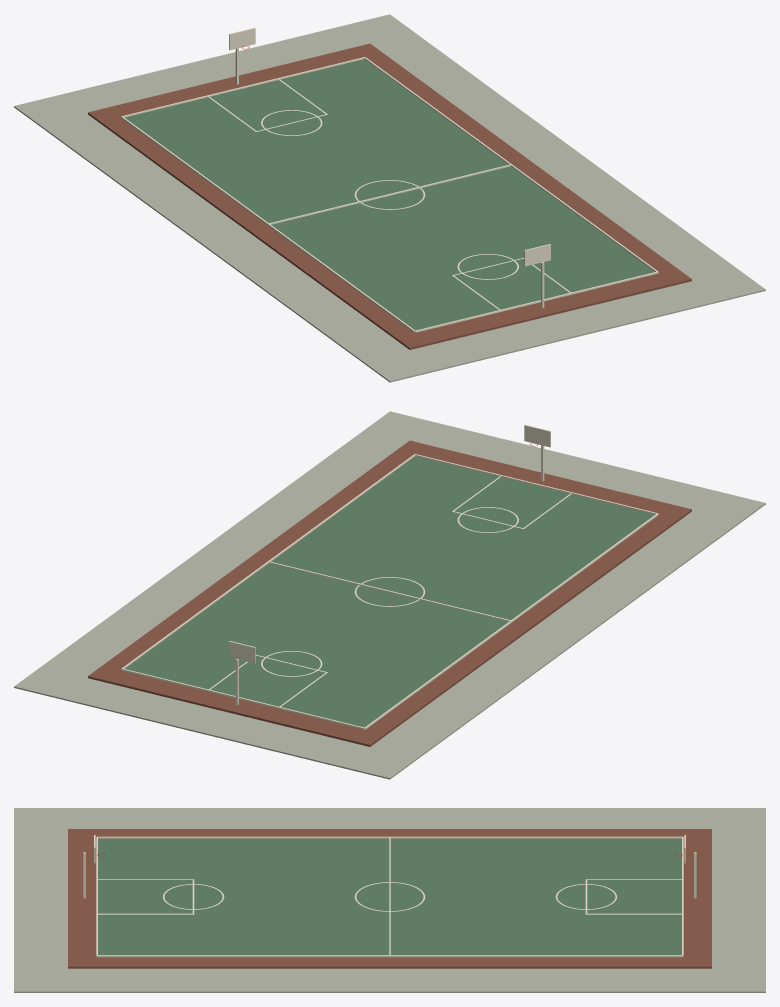
The model's file is basket_B_west_top.glb.
3 views of the same model, one above another, from view 1: azimuth 30°, elevation 25°; view 2: azimuth 150°, elevation 25°; view 3: azimuth 270°, elevation 25° (orthographic).
Parts seen in each view (by area): view 1: Court_1_CourtInfield, PavedSurround, Court_1_CourtRed, Court_1_CourtLines, Court_1_Backboard; view 2: Court_1_CourtInfield, PavedSurround, Court_1_CourtRed, Court_1_CourtLines, Court_1_Backboard; view 3: Court_1_CourtInfield, PavedSurround, Court_1_CourtRed, Court_1_CourtLines.
Part boxes in pixels (<box>): Court_1_CourtInfield: <box>125,59,654,330</box>; PavedSurround: <box>14,14,765,382</box>; Court_1_CourtRed: <box>88,43,691,349</box>; Court_1_CourtLines: <box>121,57,658,332</box>; Court_1_Backboard: <box>229,27,550,266</box>; Court_1_CourtInfield: <box>125,456,654,727</box>; PavedSurround: <box>14,411,765,779</box>; Court_1_CourtRed: <box>88,440,691,746</box>; Court_1_CourtLines: <box>121,454,658,729</box>; Court_1_Backboard: <box>229,424,550,663</box>; Court_1_CourtInfield: <box>98,838,681,954</box>; PavedSurround: <box>14,808,765,992</box>; Court_1_CourtRed: <box>68,829,711,968</box>; Court_1_CourtLines: <box>96,836,683,957</box>.
Size of the model in its own units: 26.09 by 3.97 by 45.2.
